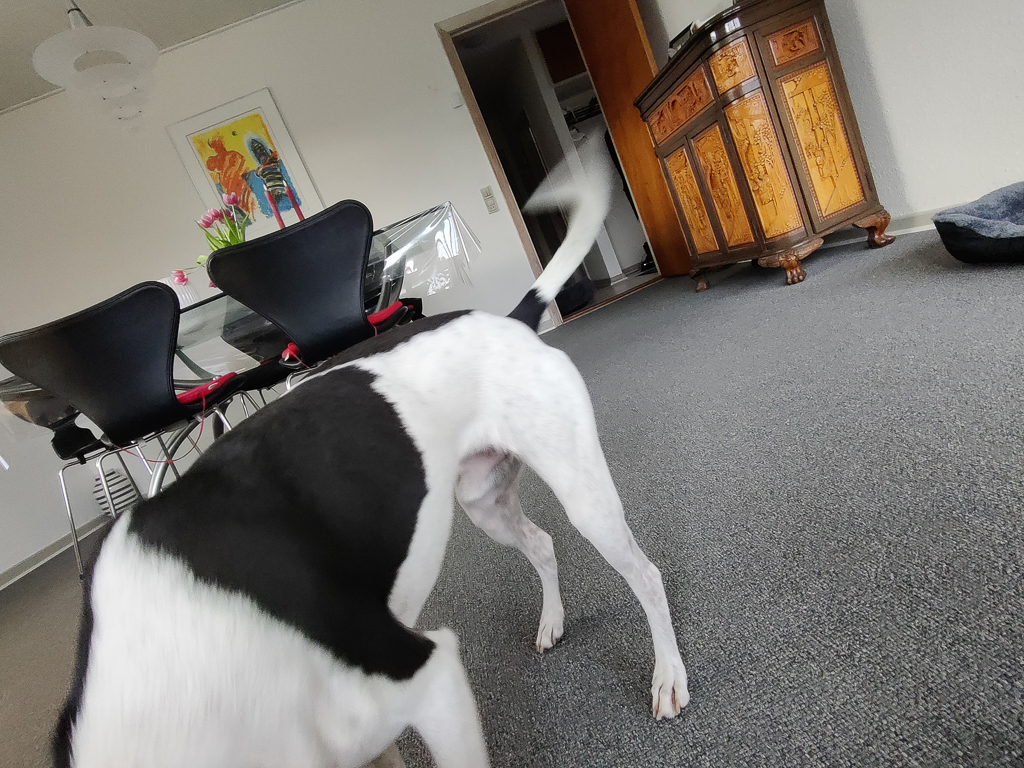Dog: (22, 127, 708, 768)
